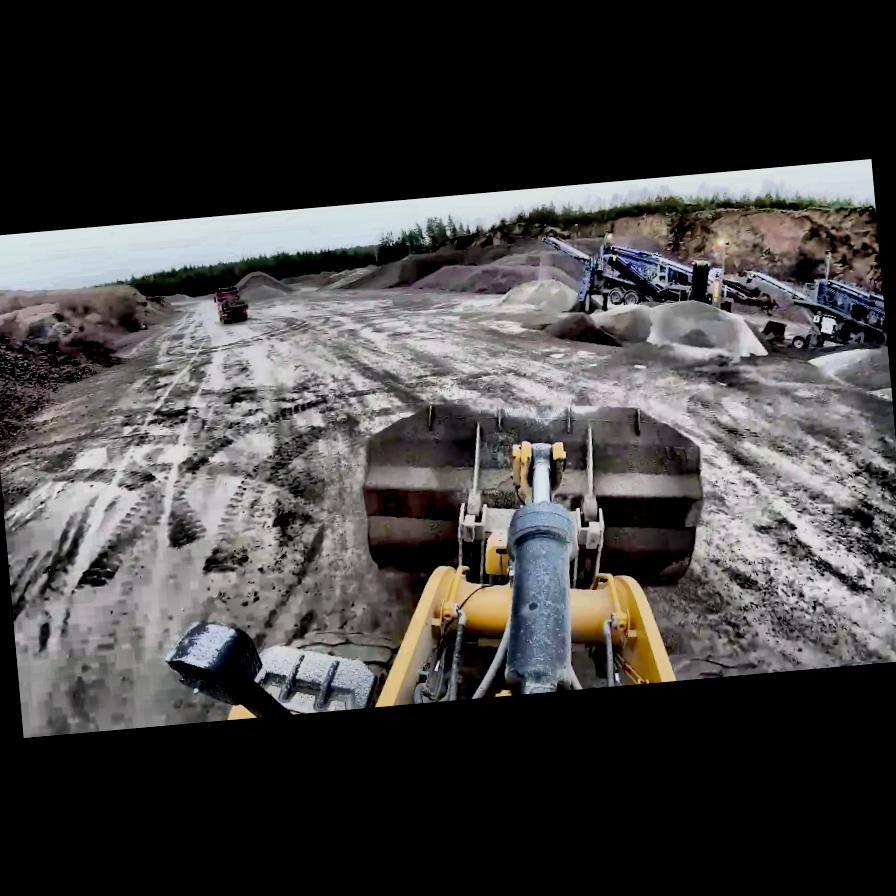anchor: (512, 436, 572, 506)
pile of gravel: (0, 270, 185, 374), (586, 290, 768, 373), (494, 273, 607, 322), (808, 346, 892, 393), (236, 268, 296, 300), (326, 264, 381, 290), (290, 267, 349, 290)
